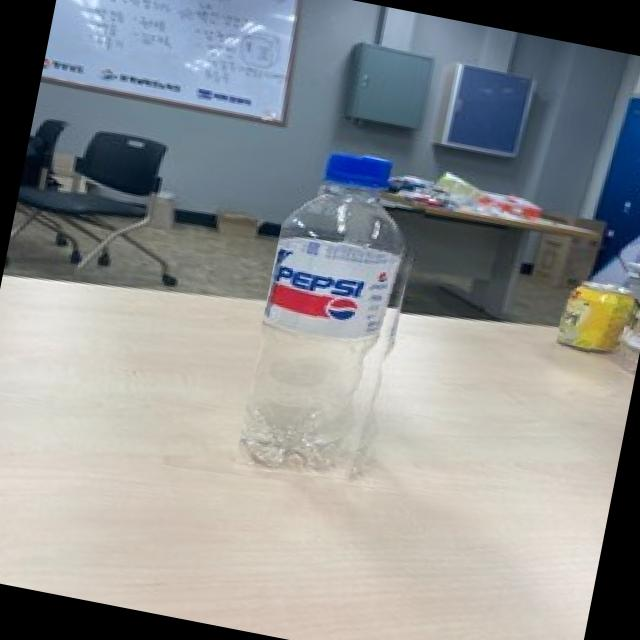plastic bottle: (233, 136, 440, 500), (553, 264, 640, 371)
